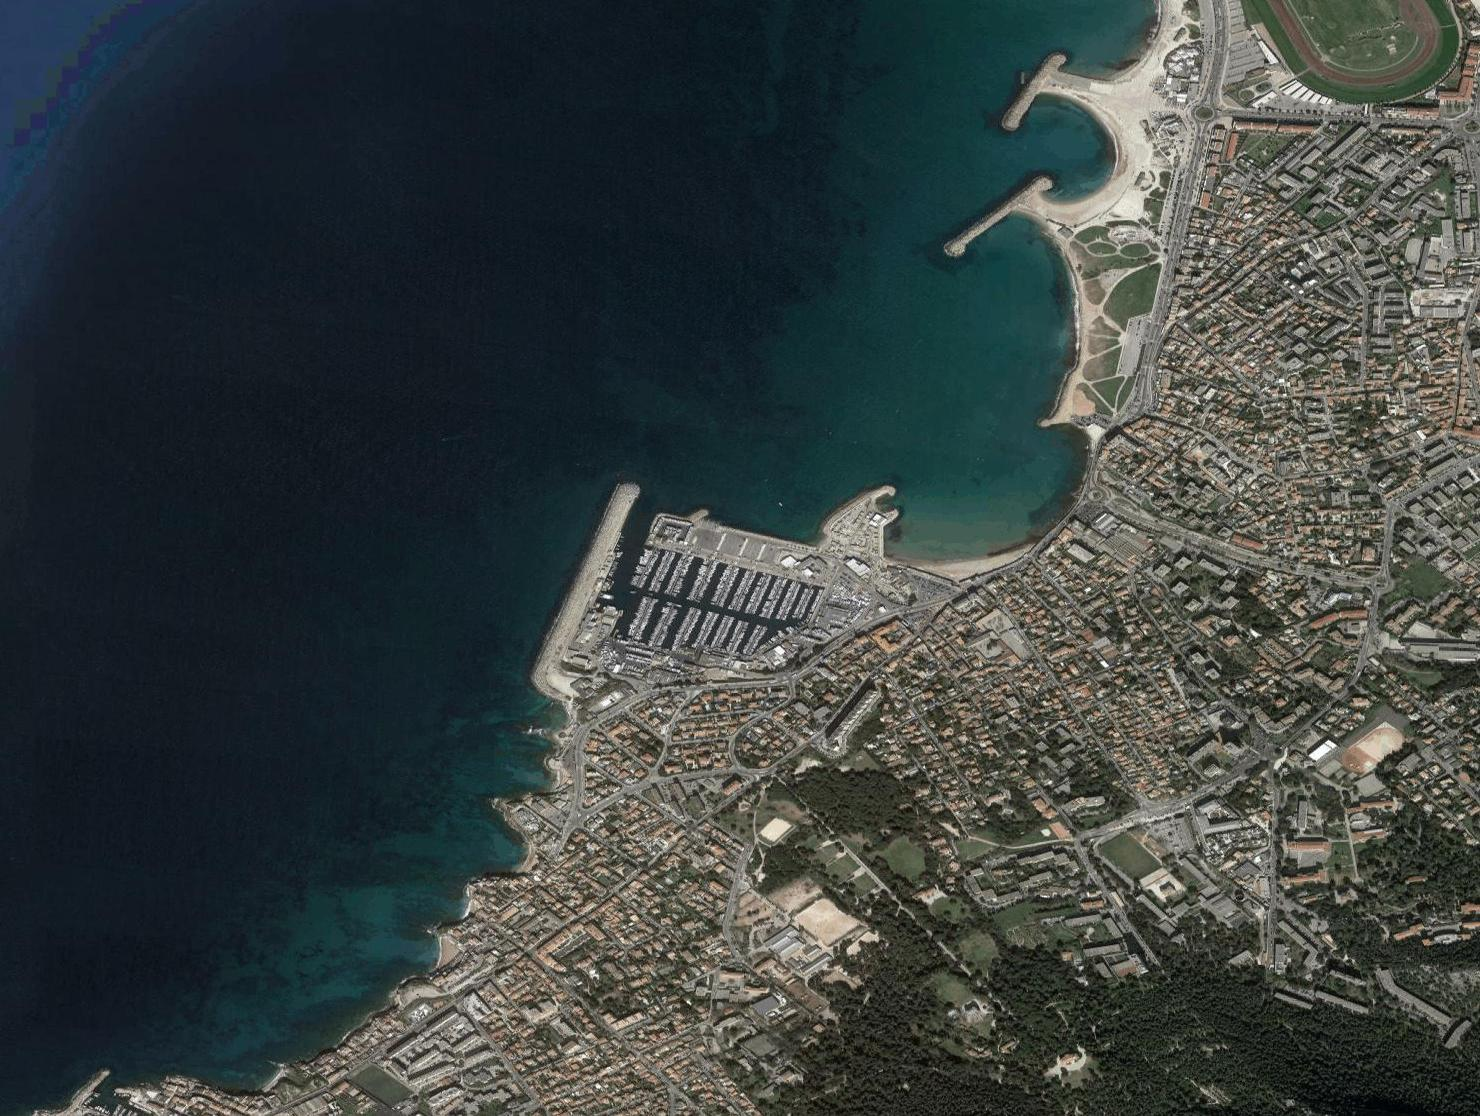harbor: (496, 468, 935, 719)
motorway: (1150, 207, 1191, 317), (570, 686, 641, 748), (1125, 315, 1166, 423), (1173, 102, 1214, 210), (1196, 1, 1237, 108), (828, 603, 913, 652), (737, 651, 827, 692), (642, 669, 734, 705), (564, 751, 589, 835)
